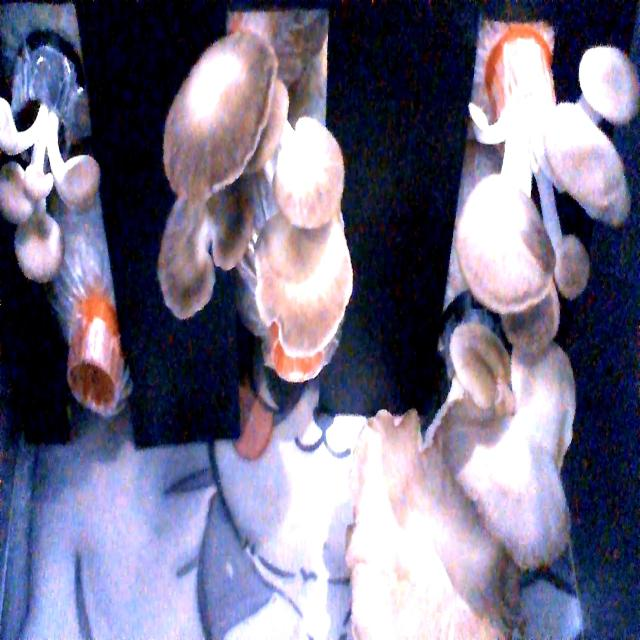big: (346, 319, 592, 640), (146, 21, 366, 371), (445, 71, 638, 352)
